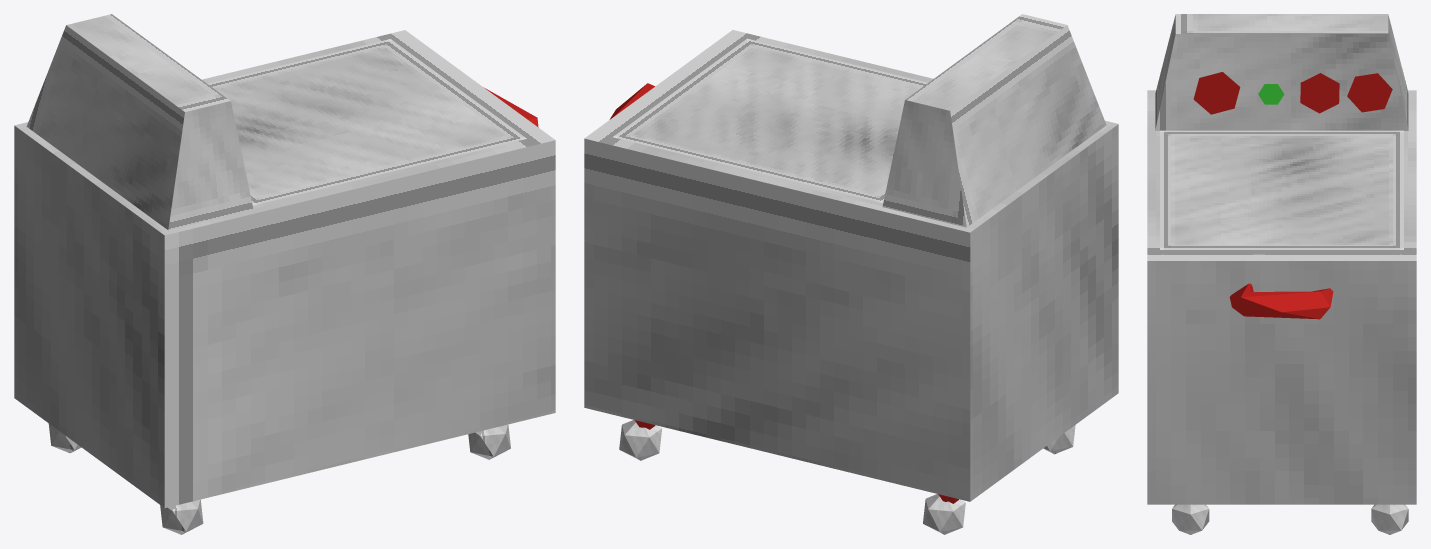
The model's file is Grill.glb.
3 renders of one model, left to right at view 1: azimuth 30°, elevation 25°; view 2: azimuth 150°, elevation 25°; view 3: azimuth 270°, elevation 25°, orthographic. The views are drawn at different scales.
Parts seen in each view (by area): view 1: Cube, Cube.001, Plane, Cylinder.004, Cylinder.002; view 2: Cube, Cube.001, Plane, Cylinder.001, Cylinder.003; view 3: Cube, Plane, Cube.001, Cylinder, Circle, Circle.002, Circle.001, Cylinder.002, Cylinder.001, Circle.003.
Boxes of the visible parts, x1=… form: Cube: x1=14, y1=30, x2=555, y2=507; Cube.001: x1=26, y1=14, x2=253, y2=230; Plane: x1=207, y1=39, x2=526, y2=205; Cylinder.004: x1=160, y1=499, x2=203, y2=534; Cylinder.002: x1=468, y1=424, x2=510, y2=459; Cube: x1=584, y1=30, x2=1118, y2=501; Cube.001: x1=882, y1=14, x2=1106, y2=227; Plane: x1=613, y1=38, x2=927, y2=202; Cylinder.001: x1=619, y1=420, x2=662, y2=460; Cylinder.003: x1=923, y1=494, x2=965, y2=534; Cube: x1=1147, y1=90, x2=1416, y2=504; Plane: x1=1160, y1=130, x2=1403, y2=249; Cube.001: x1=1155, y1=14, x2=1408, y2=130; Cylinder: x1=1229, y1=283, x2=1333, y2=319; Circle: x1=1193, y1=72, x2=1240, y2=114; Circle.002: x1=1347, y1=73, x2=1392, y2=112; Circle.001: x1=1300, y1=73, x2=1339, y2=113; Cylinder.002: x1=1172, y1=504, x2=1209, y2=534; Cylinder.001: x1=1371, y1=504, x2=1408, y2=534; Circle.003: x1=1258, y1=84, x2=1284, y2=104.
Size of the model in its own units: 3.33 by 3.15 by 2.
4 materials, 2 textured.
